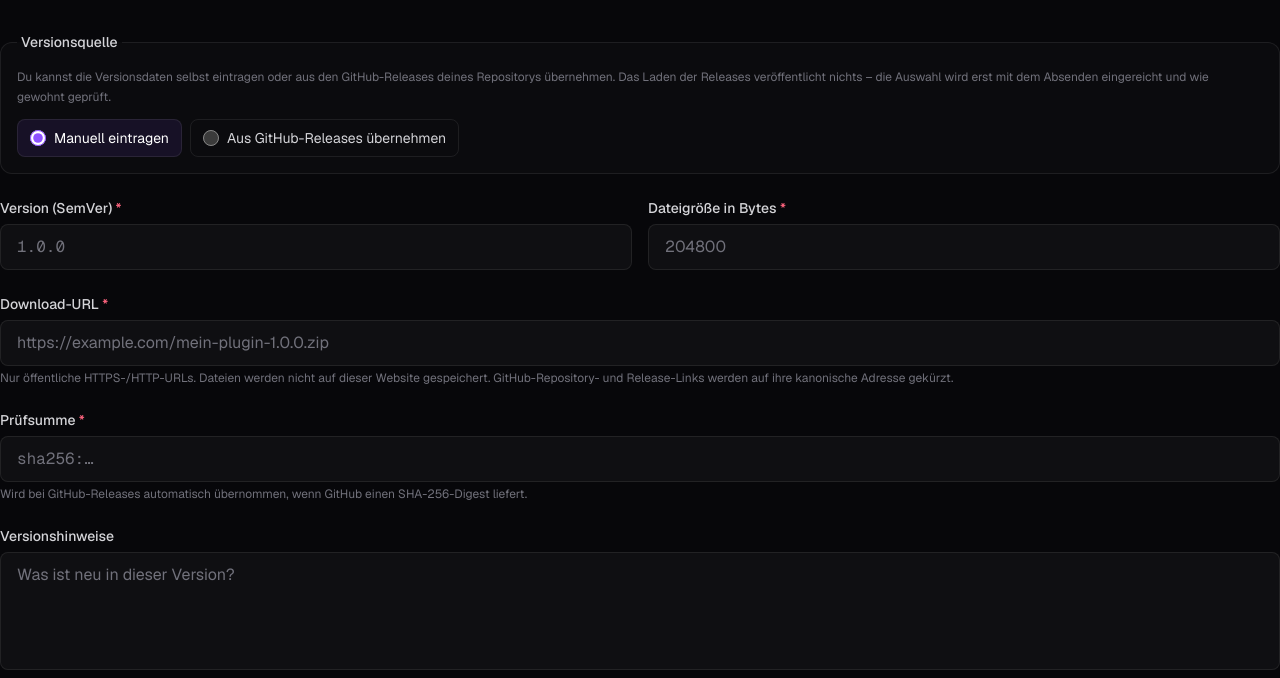
Test: VersionForm › reports a repository without releases
Click the radio button labelled "Aus GitHub-Releases übernehmen".
click(211, 138)  # box [203,130,219,146]
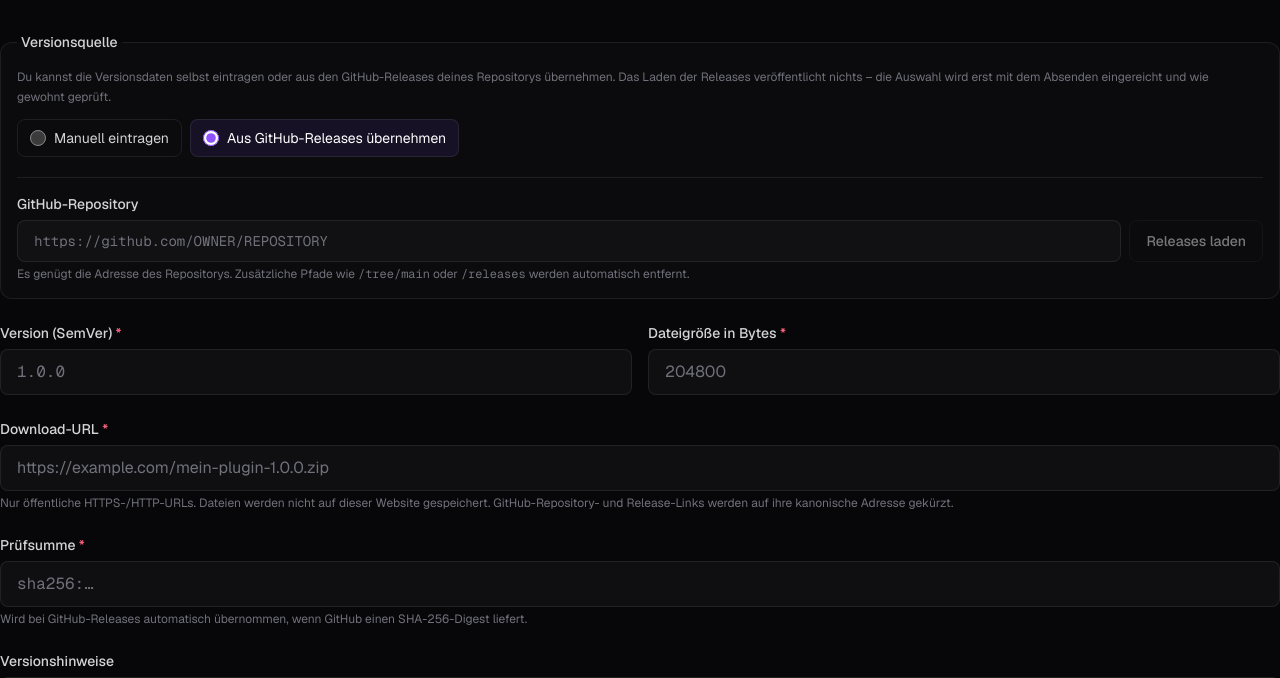
Type "github.com/owner/repo" into the field labelled "GitHub-Repository".
click(569, 241); type("github.com/owner/repo")  # box [17,220,1121,262]
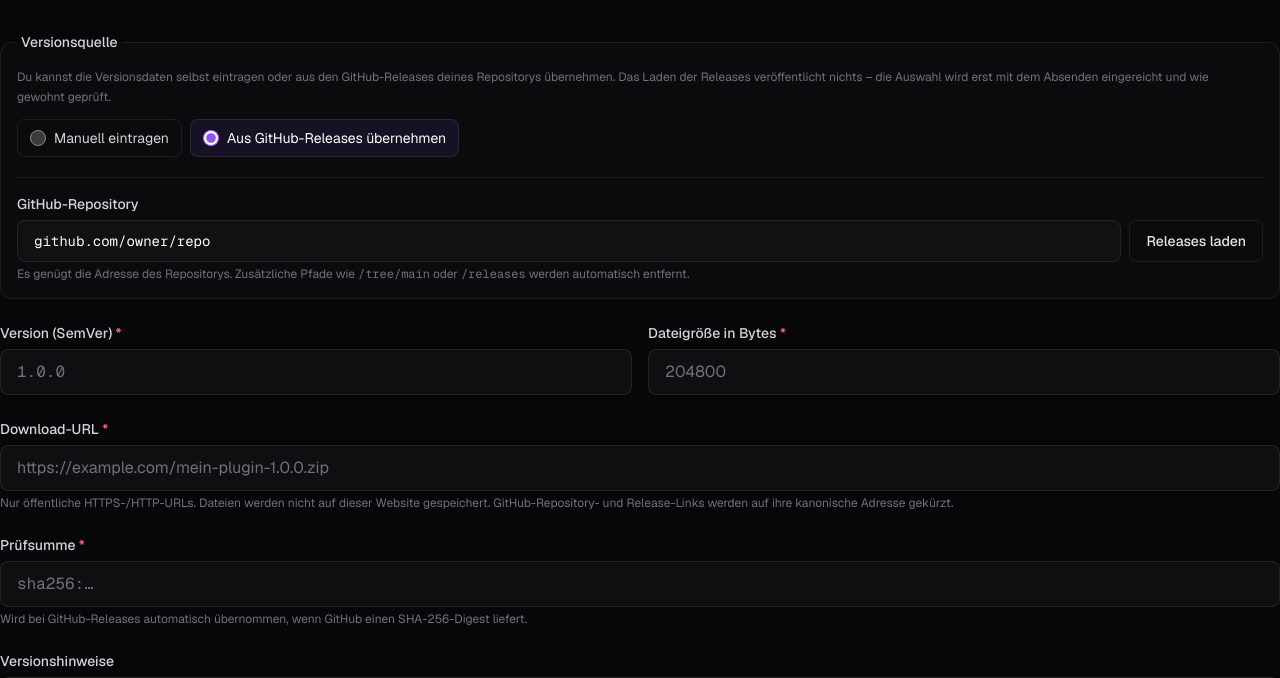
Click the button "Releases laden".
click(1196, 241)  # box [1129,220,1263,262]
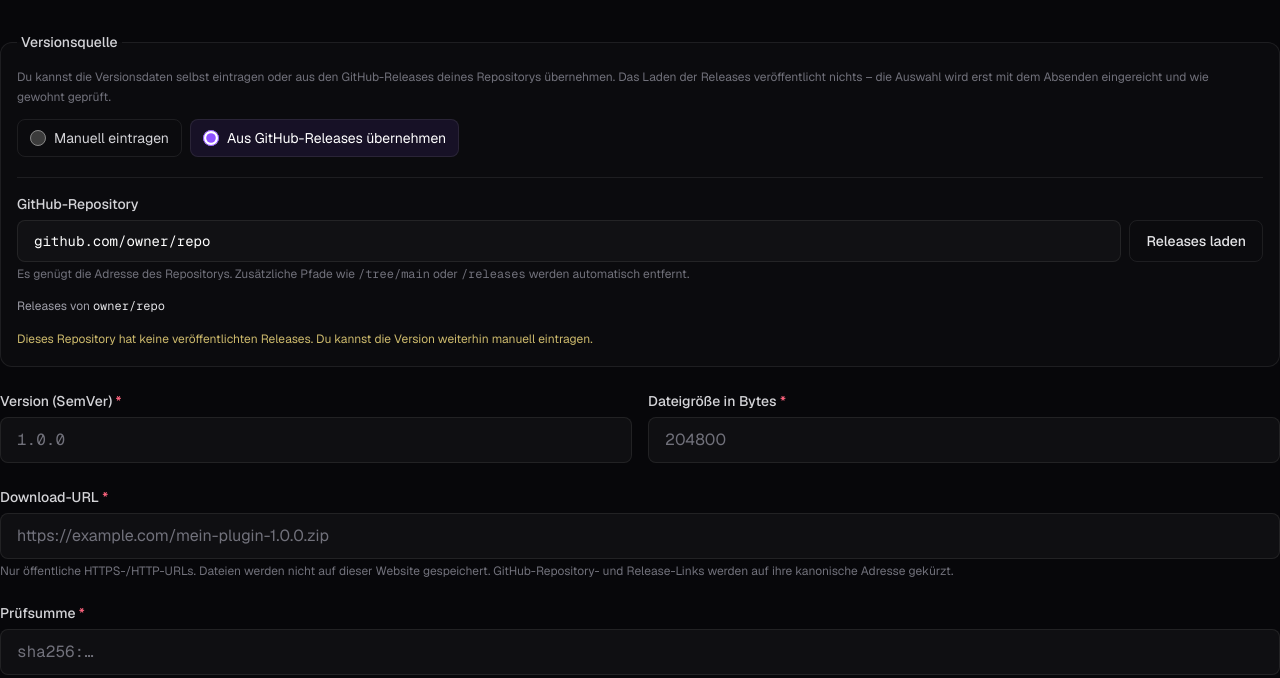
Expected: the text "keine veröffentlichten Releases" is shown, [17,331,593,347]
